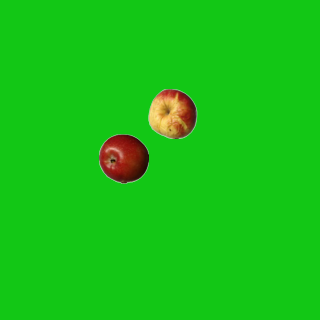Apple Braeburn: (98, 133, 148, 183)
Apple Red Yellow 1: (147, 88, 197, 138)
